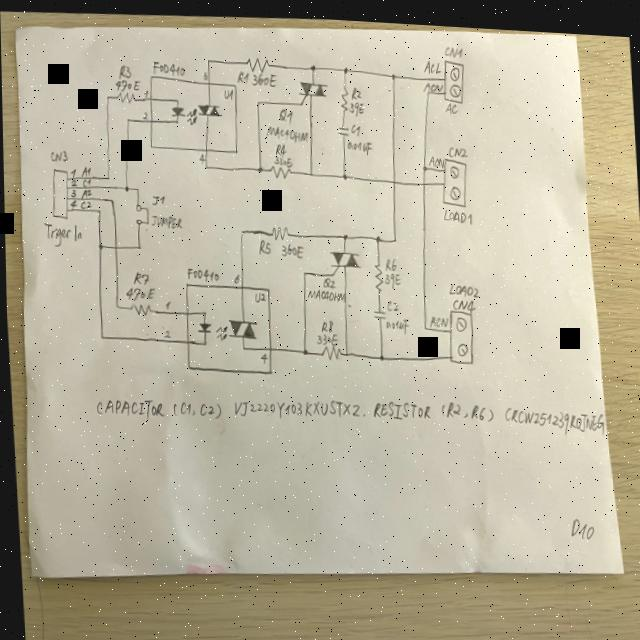capacitor: (370, 303, 385, 316), (335, 120, 350, 133)
crossover: (111, 241, 117, 250), (420, 174, 426, 182), (390, 174, 396, 181)
junction: (420, 158, 427, 168), (254, 95, 261, 103), (376, 348, 382, 357), (342, 61, 348, 70), (341, 168, 347, 176), (309, 59, 315, 67), (96, 241, 102, 249), (300, 344, 306, 352), (256, 162, 262, 170), (341, 228, 347, 236), (374, 230, 380, 238), (205, 54, 211, 62), (420, 318, 426, 326), (389, 67, 395, 74), (307, 166, 313, 173), (300, 265, 306, 272), (123, 183, 128, 190), (238, 225, 243, 232), (342, 347, 347, 354), (97, 332, 102, 338), (391, 232, 396, 238), (136, 242, 141, 248), (108, 196, 113, 202), (95, 206, 100, 212), (113, 301, 118, 307), (105, 92, 109, 99), (426, 85, 430, 92), (134, 185, 138, 191), (125, 115, 129, 121), (105, 173, 109, 179), (203, 162, 207, 166)
resistor: (244, 50, 271, 71), (318, 340, 341, 357), (268, 220, 289, 238), (372, 256, 383, 288), (129, 299, 151, 315), (268, 160, 290, 176), (338, 81, 349, 108), (116, 89, 136, 103)
switch: (132, 201, 149, 225)
terminal: (443, 302, 476, 362), (437, 150, 472, 203), (441, 51, 467, 100), (48, 165, 71, 219)
text: (86, 371, 606, 455), (264, 120, 310, 144), (42, 220, 81, 248), (184, 261, 220, 282), (150, 55, 186, 76), (148, 210, 183, 230), (122, 283, 156, 303), (303, 284, 345, 299), (445, 276, 479, 293), (383, 309, 409, 331), (441, 202, 472, 220), (344, 134, 373, 153), (250, 67, 277, 86), (277, 238, 303, 256), (112, 75, 140, 91), (382, 264, 402, 285), (313, 327, 337, 343), (129, 267, 150, 285), (422, 53, 442, 71), (278, 103, 294, 124), (451, 291, 473, 306), (427, 308, 447, 324), (443, 37, 463, 53), (347, 96, 367, 112), (421, 75, 443, 89), (49, 147, 67, 163), (116, 61, 132, 79), (446, 139, 465, 153), (256, 235, 271, 252), (273, 151, 292, 164), (148, 190, 164, 205), (235, 67, 250, 82), (273, 138, 286, 155), (349, 81, 362, 97), (318, 315, 332, 329), (348, 118, 361, 133), (444, 97, 458, 110), (80, 171, 91, 187), (77, 197, 90, 210), (384, 252, 396, 266), (427, 150, 441, 162), (80, 185, 92, 199), (385, 295, 398, 307), (252, 288, 265, 300), (320, 273, 334, 284), (79, 163, 90, 177), (222, 85, 233, 97), (67, 198, 76, 211), (258, 349, 267, 361), (161, 325, 169, 337), (163, 296, 170, 309), (231, 271, 239, 281), (197, 150, 205, 159), (141, 87, 149, 96), (69, 166, 75, 178), (202, 68, 208, 79), (68, 178, 76, 186), (141, 109, 148, 117), (69, 187, 75, 196)
